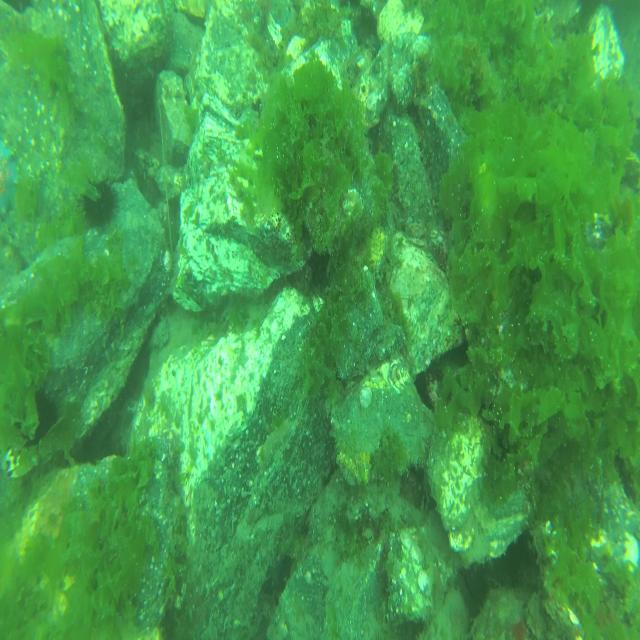echinus: (78, 169, 121, 233)
starfish: (1, 132, 20, 225)
